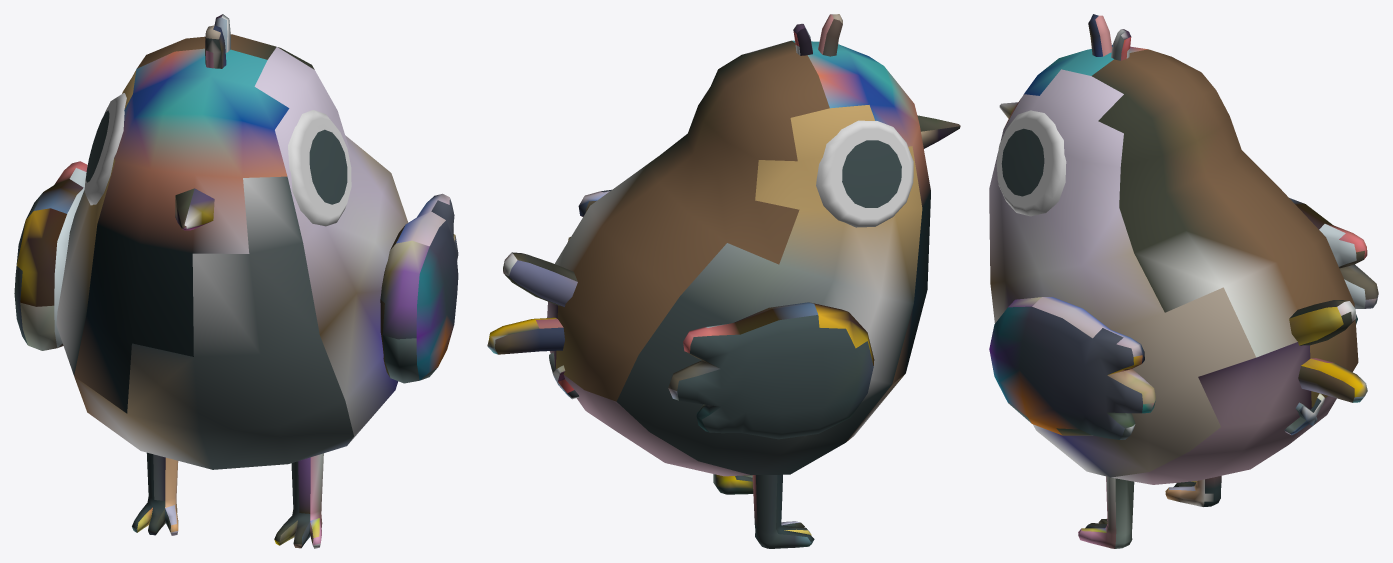
Rendered from Chick.glb.
3 views of the same model, side by side, from view 1: azimuth 30°, elevation 25°; view 2: azimuth 150°, elevation 25°; view 3: azimuth 270°, elevation 25° (orthographic). The views are drawn at different scales.
Parts seen in each view (by area): view 1: 26; view 2: 26; view 3: 26.
Boxes of the visible parts, x1=… form: 26: x1=14, y1=14, x2=458, y2=548; 26: x1=487, y1=14, x2=960, y2=548; 26: x1=989, y1=14, x2=1378, y2=548.
Bounding box in the file's own units: 0.4882 × 0.6501 × 0.4741.
